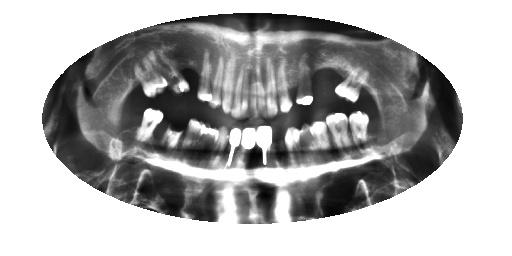i10healthy: (226, 124, 243, 167)
i11healthy: (210, 122, 230, 172)
i12healthy: (194, 118, 217, 171)
i13healthy: (179, 114, 203, 164)
i14chipped: (159, 106, 188, 159)
i15healthy: (136, 105, 165, 145)
i2healthy: (348, 109, 375, 151)
i3healthy: (323, 106, 352, 153)
i4healthy: (310, 114, 331, 160)
i5healthy: (297, 119, 318, 161)
i6healthy: (284, 123, 302, 167)
i7loss: (268, 123, 287, 167)
i8healthy: (255, 124, 274, 168)
i9loss: (238, 125, 258, 169)
u10healthy: (220, 51, 237, 116)
u11healthy: (208, 50, 226, 111)
u12healthy: (193, 46, 215, 105)
u13loss: (177, 46, 202, 98)
u14decay: (149, 47, 192, 97)
u15healthy: (131, 53, 171, 98)
u2healthy: (329, 65, 373, 105)
u3loss: (324, 53, 344, 104)
u4loss: (311, 53, 330, 106)
u5healthy: (287, 50, 316, 109)
u6healthy: (272, 51, 295, 115)
u7healthy: (260, 52, 280, 118)
u8healthy: (246, 52, 266, 119)
u9healthy: (230, 55, 250, 121)
